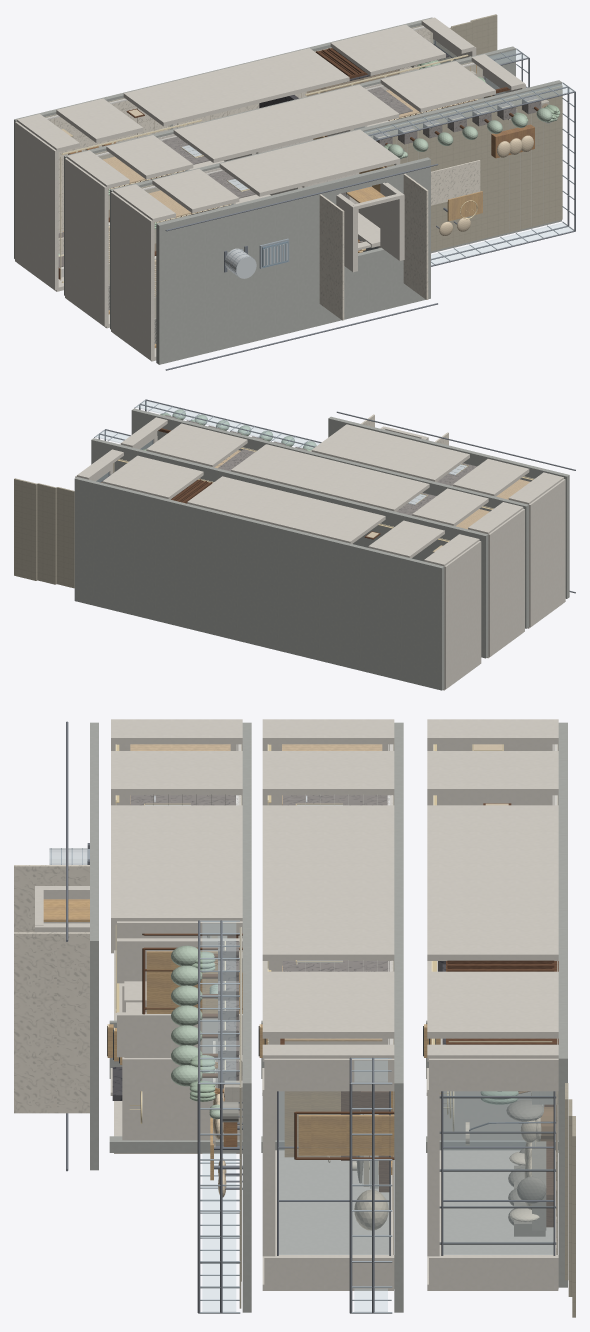
Rendered from NHA_V21_LUXURY_CUTAWAY_THEO_PDF.glb.
3 views of the same model, one above another, from view 1: azimuth 30°, elevation 25°; view 2: azimuth 150°, elevation 25°; view 3: azimuth 270°, elevation 25° (orthographic). The views are drawn at different scales.
Parts seen in each view (by area): view 1: F3__ROOF__roof_cover_rear, F2__TERRACE__terrace_deck, F2__SHELL__rear_wall, F0__SHELL__rear_wall, F1__SHELL__rear_wall, F3__ROOF__roof_cover_stair_left, F0__SHELL_NEAR__south_wall_7, F1__SHELL_NEAR__south_wall_7, F2__SHELL_NEAR__south_wall_7, F0__SHELL_NEAR__south_wall_14.15, F1__SHELL_NEAR__south_wall_14.15, F3__ROOF_ACCESS__L21_roof_lift_penthouse_pier_7.23 (+35 smaller); view 2: F0__SLAB__architectural_floor_slab, F1__SLAB__architectural_floor_slab, F0__SHELL__rear_wall, F2__SHELL__rear_wall, F1__SHELL__rear_wall, F0__SHELL_NEAR__south_wall_7, F2__SHELL_NEAR__south_wall_7, F1__SHELL_NEAR__south_wall_7, F2__SLAB__architectural_floor_slab, F0__SHELL_NEAR__south_wall_14.15, F1__SHELL_NEAR__south_wall_14.15, F0__EXTERIOR__front_tread_3 (+21 smaller); view 3: F0__GLASS__front_sliding_glazing, F3__ROOF_ACCESS__L21_roof_lift_penthouse_pier_11.02, F1__GLASS__front_sliding_glazing, F2__SHELL_NEAR__south_wall_7, F1__SHELL_NEAR__south_wall_7, F0__SHELL_NEAR__south_wall_7, F1__SHELL__north_boundary_wall, F1__SHELL_NEAR__south_wall_14.15, F0__SHELL_NEAR__south_wall_14.15, F0__SHELL__north_boundary_wall, F2__CORE__stair_core_return_11.13, F1__SHELL_NEAR__south_wall_1.78 (+57 smaller).
Part boxes in pixels (x1=…): F3__ROOF__roof_cover_rear: x1=156, y1=186, x2=314, y2=364; F2__TERRACE__terrace_deck: x1=366, y1=85, x2=562, y2=251; F2__SHELL__rear_wall: x1=111, y1=192, x2=154, y2=360; F0__SHELL__rear_wall: x1=15, y1=121, x2=58, y2=290; F1__SHELL__rear_wall: x1=65, y1=158, x2=108, y2=326; F3__ROOF__roof_cover_stair_left: x1=314, y1=238, x2=430, y2=326; F0__SHELL_NEAR__south_wall_7: x1=172, y1=59, x2=303, y2=114; F1__SHELL_NEAR__south_wall_7: x1=222, y1=96, x2=353, y2=151; F2__SHELL_NEAR__south_wall_7: x1=268, y1=129, x2=399, y2=184; F0__SHELL_NEAR__south_wall_14.15: x1=330, y1=24, x2=445, y2=75; F1__SHELL_NEAR__south_wall_14.15: x1=380, y1=61, x2=495, y2=112; F3__ROOF_ACCESS__L21_roof_lift_penthouse_pier_7.23: x1=319, y1=194, x2=344, y2=320; F0__SLAB__architectural_floor_slab: x1=74, y1=477, x2=444, y2=690; F1__SLAB__architectural_floor_slab: x1=118, y1=445, x2=488, y2=658; F0__SHELL__rear_wall: x1=444, y1=541, x2=481, y2=688; F2__SHELL__rear_wall: x1=529, y1=479, x2=565, y2=627; F1__SHELL__rear_wall: x1=488, y1=508, x2=524, y2=656; F0__SHELL_NEAR__south_wall_7: x1=227, y1=486, x2=342, y2=532; F2__SHELL_NEAR__south_wall_7: x1=311, y1=424, x2=426, y2=471; F1__SHELL_NEAR__south_wall_7: x1=271, y1=454, x2=386, y2=500; F2__SLAB__architectural_floor_slab: x1=159, y1=415, x2=528, y2=628; F0__SHELL_NEAR__south_wall_14.15: x1=102, y1=455, x2=203, y2=499; F1__SHELL_NEAR__south_wall_14.15: x1=146, y1=423, x2=247, y2=467; F0__EXTERIOR__front_tread_3: x1=14, y1=478, x2=37, y2=580; F0__GLASS__front_sliding_glazing: x1=443, y1=1091, x2=553, y2=1254; F3__ROOF_ACCESS__L21_roof_lift_penthouse_pier_11.02: x1=14, y1=932, x2=89, y2=1113; F1__GLASS__front_sliding_glazing: x1=279, y1=1091, x2=388, y2=1254; F2__SHELL_NEAR__south_wall_7: x1=111, y1=844, x2=242, y2=924; F1__SHELL_NEAR__south_wall_7: x1=262, y1=844, x2=394, y2=917; F0__SHELL_NEAR__south_wall_7: x1=427, y1=844, x2=558, y2=917; F1__SHELL__north_boundary_wall: x1=262, y1=961, x2=393, y2=1290; F1__SHELL_NEAR__south_wall_14.15: x1=262, y1=971, x2=394, y2=1038; F0__SHELL_NEAR__south_wall_14.15: x1=427, y1=971, x2=558, y2=1038; F0__SHELL__north_boundary_wall: x1=427, y1=961, x2=558, y2=1290; F2__CORE__stair_core_return_11.13: x1=122, y1=1057, x2=242, y2=1140; F1__SHELL_NEAR__south_wall_1.78: x1=262, y1=751, x2=394, y2=795.
Bounding box in the file's own units: 21.94 × 6.17 × 13.33.
52 materials, 27 textured.
